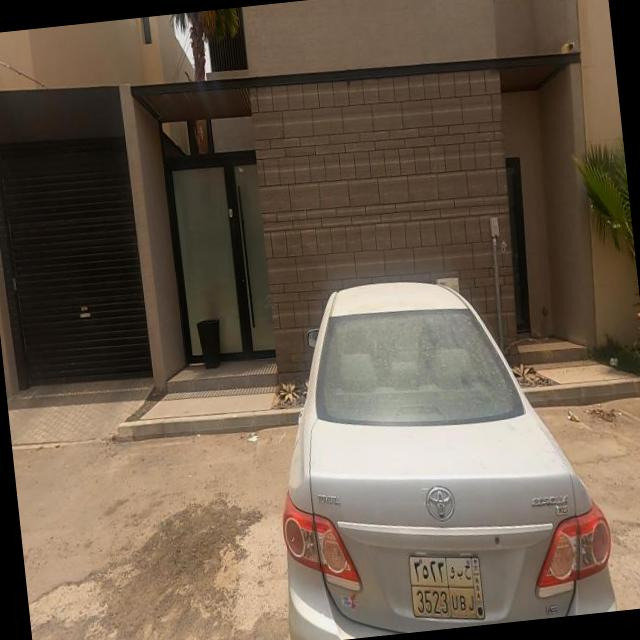debris: (218, 395, 278, 473)
